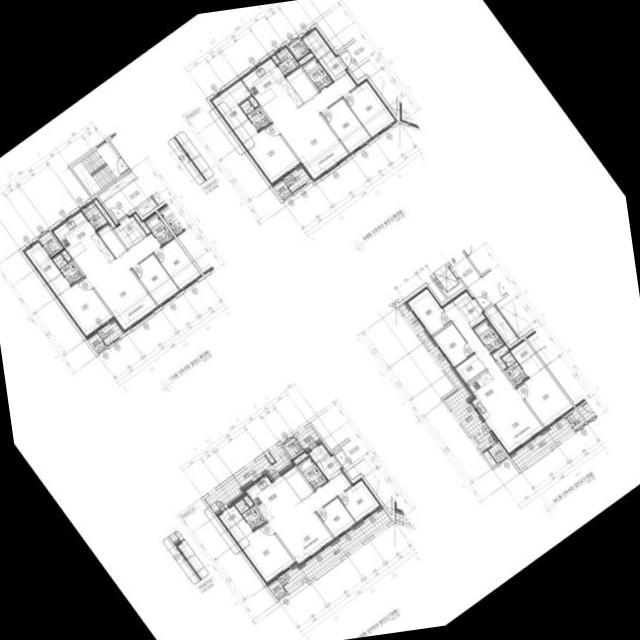background: (0, 0, 640, 640)
space_balconi: (398, 303, 496, 451), (277, 508, 392, 591), (204, 443, 292, 512), (511, 417, 573, 469), (82, 202, 107, 230), (282, 167, 310, 192), (276, 46, 299, 75), (97, 321, 123, 345), (295, 425, 319, 449)
space_bedroom: (236, 522, 294, 583), (517, 367, 575, 428), (449, 251, 508, 310), (242, 123, 299, 183), (58, 277, 112, 335), (343, 79, 396, 136), (321, 98, 371, 152), (132, 253, 179, 305), (154, 238, 201, 289), (405, 286, 451, 336), (431, 323, 473, 367), (338, 479, 380, 521), (316, 497, 355, 537), (248, 96, 258, 107)
space_dressroom: (211, 79, 257, 143), (25, 241, 71, 296), (509, 338, 544, 377), (217, 505, 252, 542)
space_elevator_hall: (103, 178, 150, 220), (333, 439, 364, 471), (338, 40, 369, 71)
space_front: (318, 50, 347, 81), (118, 215, 147, 245), (459, 296, 486, 327), (316, 454, 342, 481)
space_kitchen: (53, 211, 115, 279), (241, 58, 303, 124), (245, 475, 301, 524), (466, 370, 511, 421)
space_living_room: (441, 299, 545, 456), (274, 71, 358, 179), (270, 471, 353, 564), (88, 233, 161, 329)
space_other: (495, 294, 533, 337), (485, 305, 518, 344), (98, 170, 136, 202), (286, 67, 318, 102), (281, 464, 313, 499), (97, 224, 126, 257), (454, 353, 485, 383), (302, 28, 331, 59), (93, 199, 115, 227), (39, 231, 61, 254), (451, 288, 473, 308), (114, 225, 133, 248), (136, 196, 157, 216), (492, 344, 509, 368), (309, 442, 329, 462), (288, 38, 308, 57), (283, 437, 302, 456), (566, 410, 585, 429), (133, 213, 150, 233), (298, 51, 314, 64), (483, 450, 496, 466), (293, 452, 308, 464), (61, 250, 71, 261), (265, 452, 275, 463), (243, 495, 253, 506), (271, 54, 280, 63)
space_outdoor_room: (87, 333, 106, 352), (273, 180, 291, 199), (268, 579, 286, 598), (488, 443, 506, 462)
space_staircase: (72, 141, 128, 195)
space_toilet: (302, 56, 332, 90), (473, 319, 503, 353), (297, 455, 327, 489), (239, 99, 270, 130), (234, 498, 265, 529), (52, 253, 83, 284), (144, 213, 173, 245), (501, 351, 528, 385)
